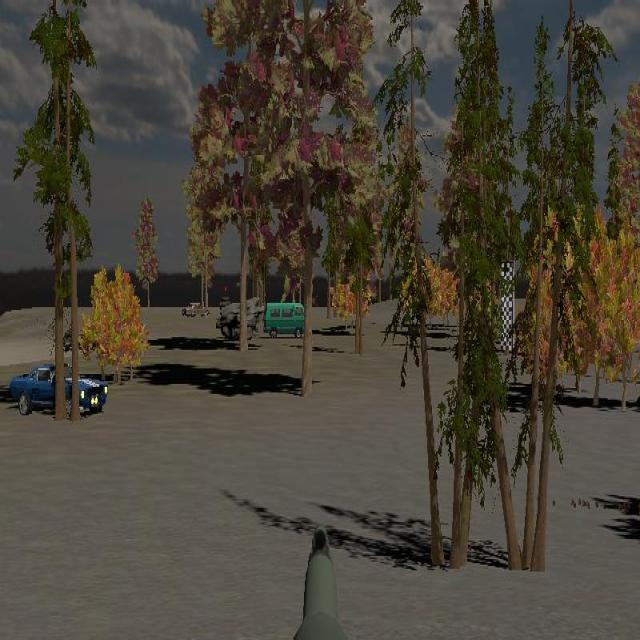car: (9, 363, 109, 417), (264, 301, 307, 338), (181, 302, 204, 319)
